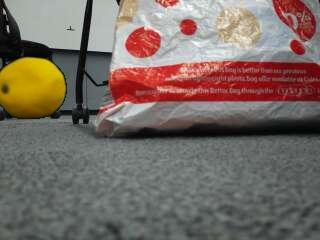lemon: (1, 57, 67, 118)
